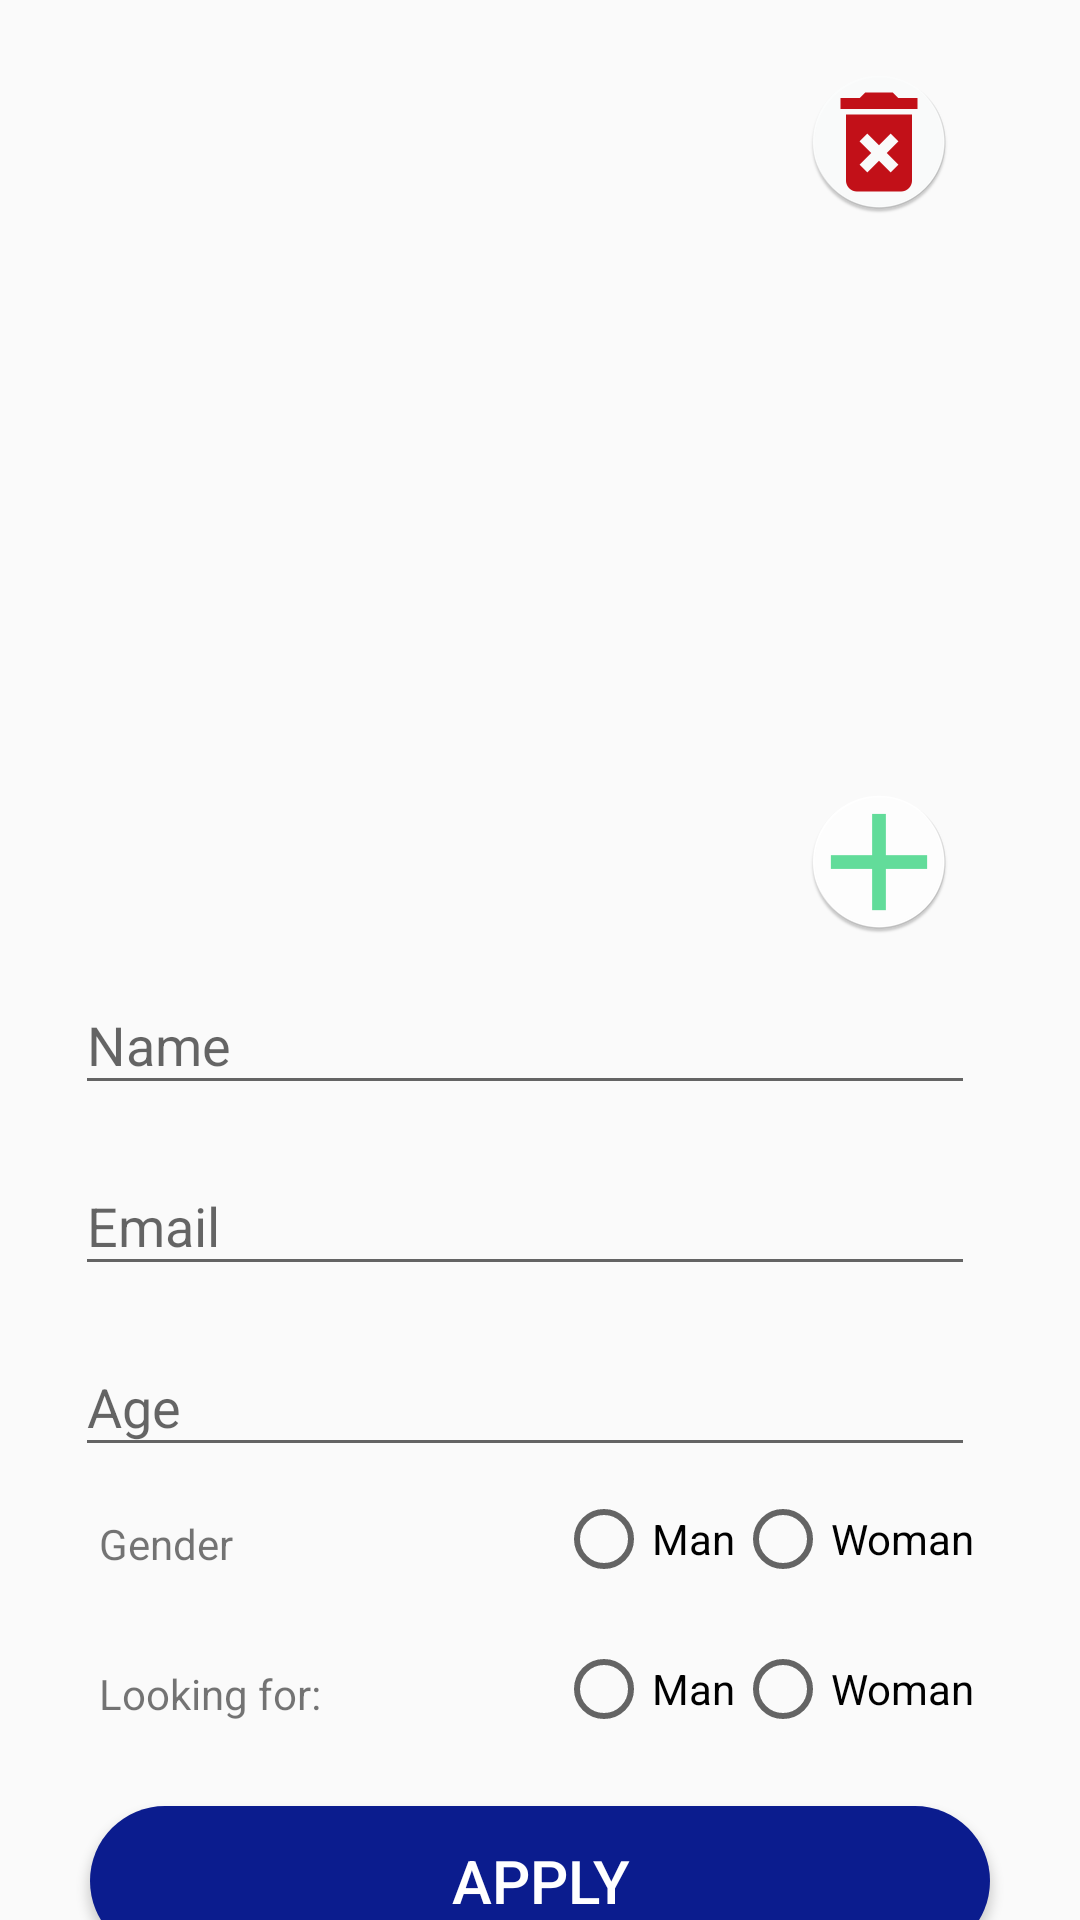

Where to tap for icons on this 1080x1920 app screen, as (x,y):
delete: (880,151)
